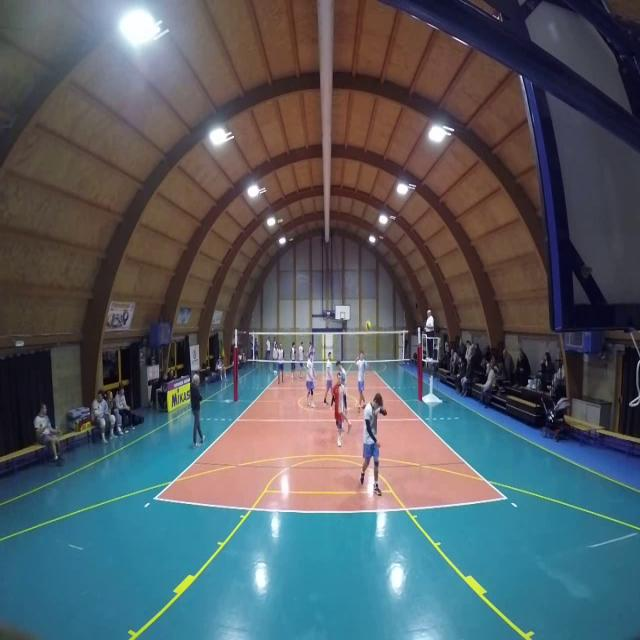Volleyball: (364, 318, 372, 333)
